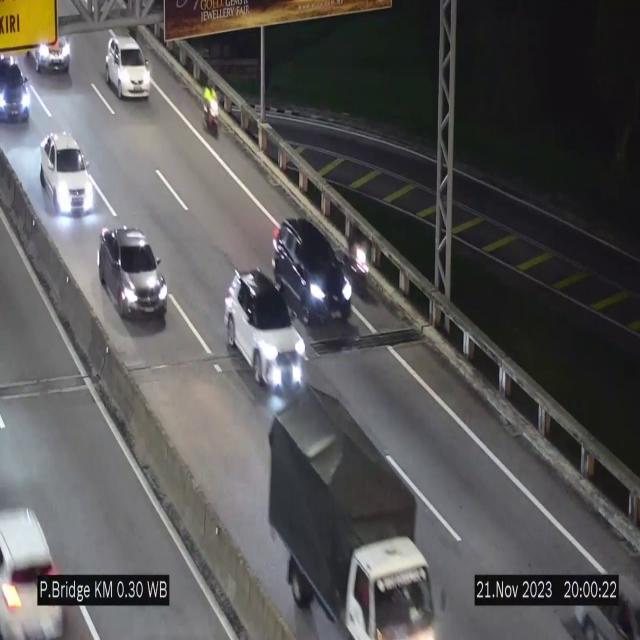Car: (222, 265, 306, 392), (0, 485, 66, 639), (275, 220, 355, 326), (95, 221, 171, 323), (36, 129, 97, 217), (32, 18, 77, 84), (106, 35, 151, 99), (0, 53, 34, 126)
Motorcycle: (202, 75, 220, 140), (352, 233, 368, 303)
Truck: (264, 381, 440, 640)
